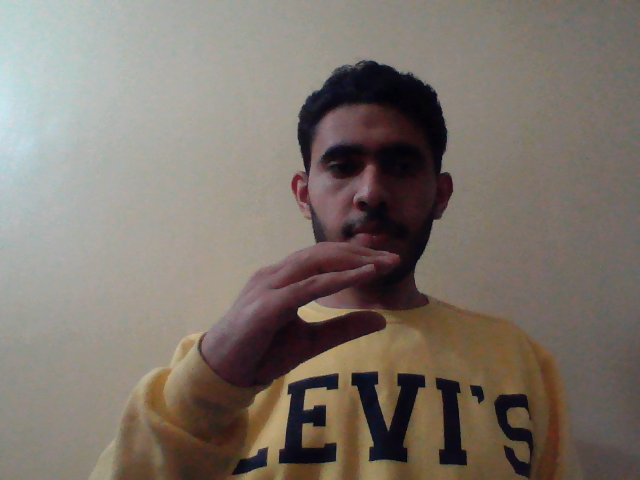C: (192, 235, 405, 394)
